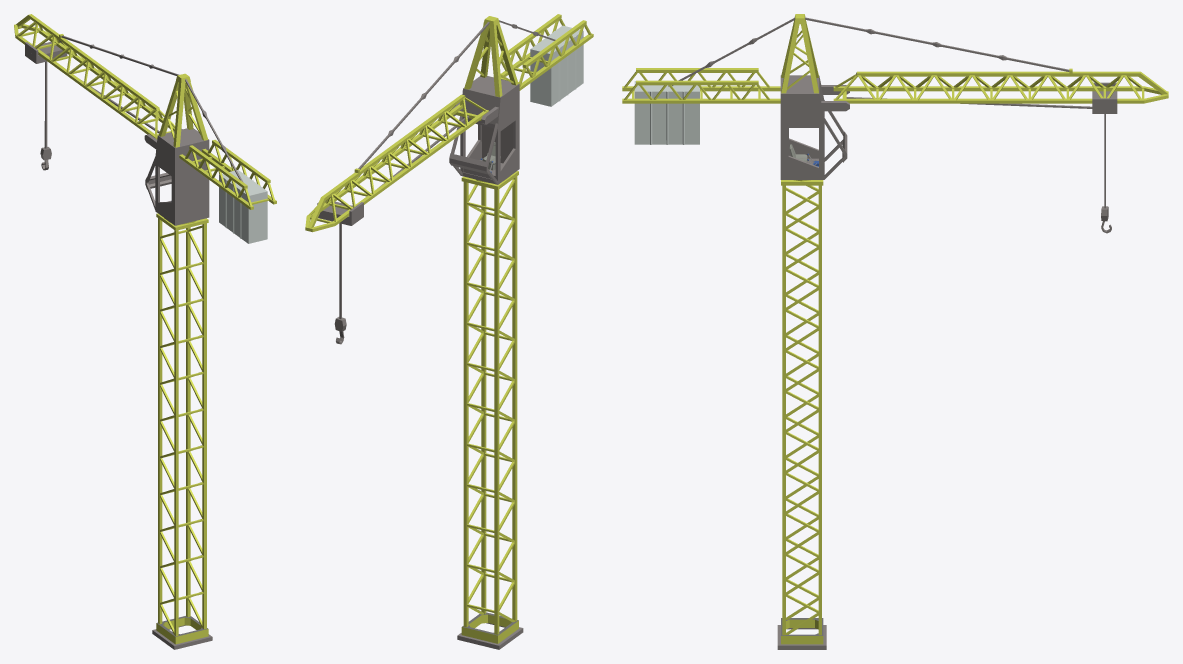
File: SM_Crane_02.fbx
3 renders of one model, left to right at view 1: azimuth 30°, elevation 25°; view 2: azimuth 150°, elevation 25°; view 3: azimuth 270°, elevation 25°, orthographic. The views are drawn at different scales.
Visible parts, largest first — view 1: SM_Crane_02; view 2: SM_Crane_02; view 3: SM_Crane_02.
Part boxes in pixels (left/top/right/bottom): SM_Crane_02: left=14, top=14, right=276, bottom=649; SM_Crane_02: left=305, top=14, right=593, bottom=649; SM_Crane_02: left=622, top=14, right=1168, bottom=649.
Bounding box in the file's own units: 201 × 2827 × 2246.
